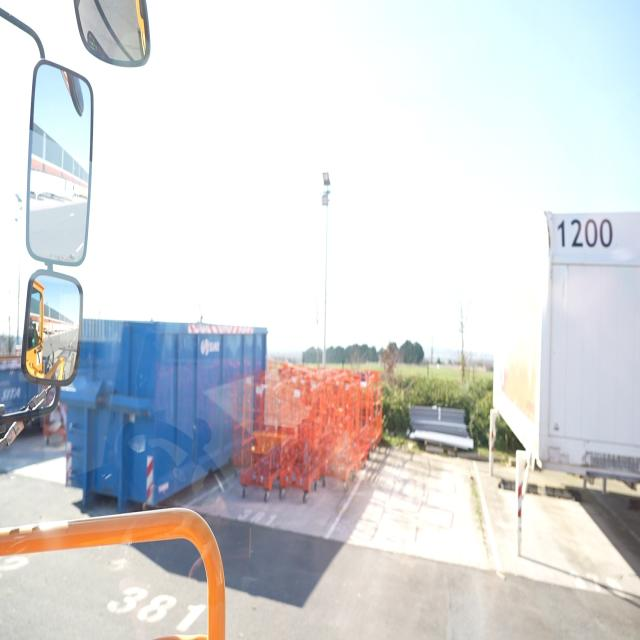Code: (550, 210, 618, 262)
